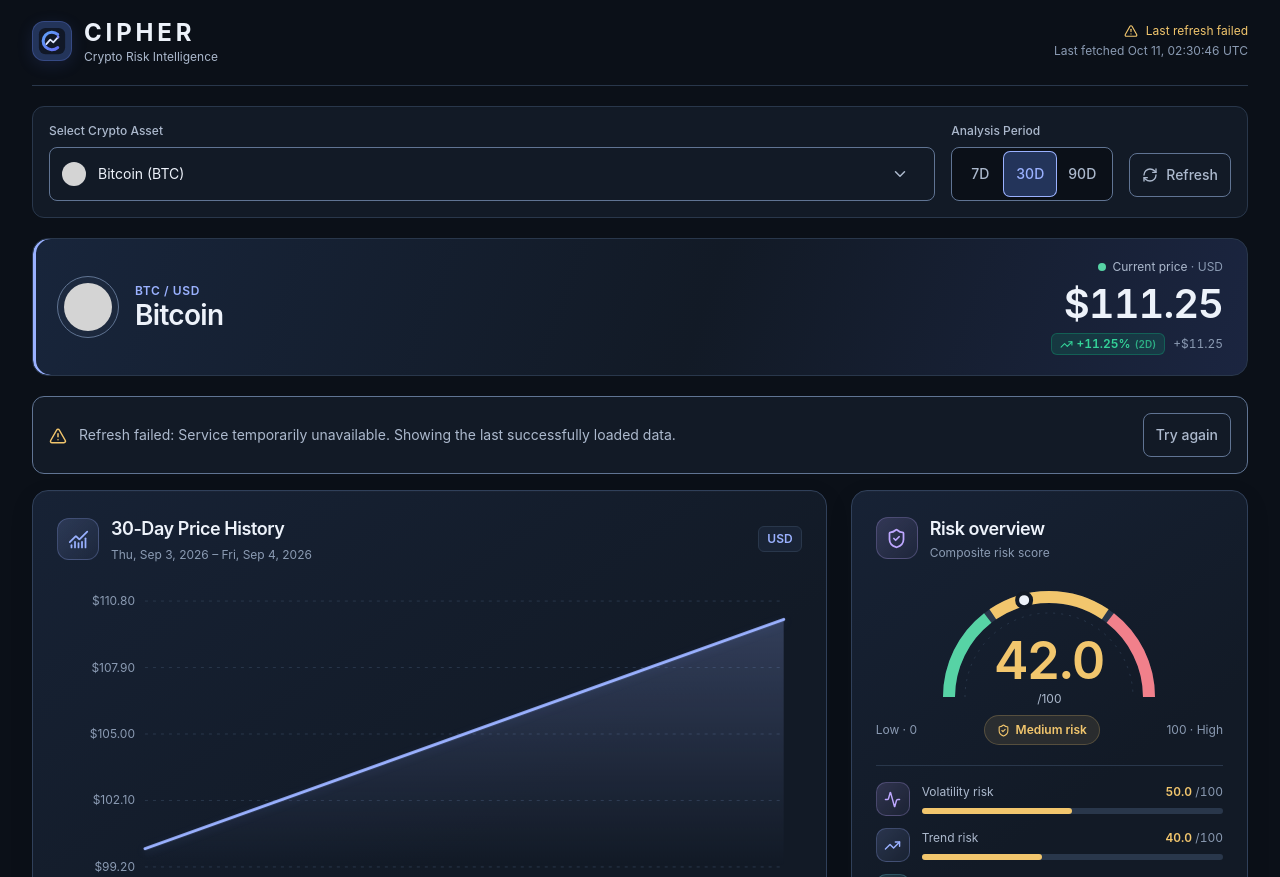
it: Dashboard loading and recovery › retains the last successful data after a failed refresh and retries the selected query
Expected: the text "Showing the last successfully loaded data" is shown, [390,426,676,443]
Step 1. Click the button "Try again" → (1187, 435), box [1143,413,1231,457]
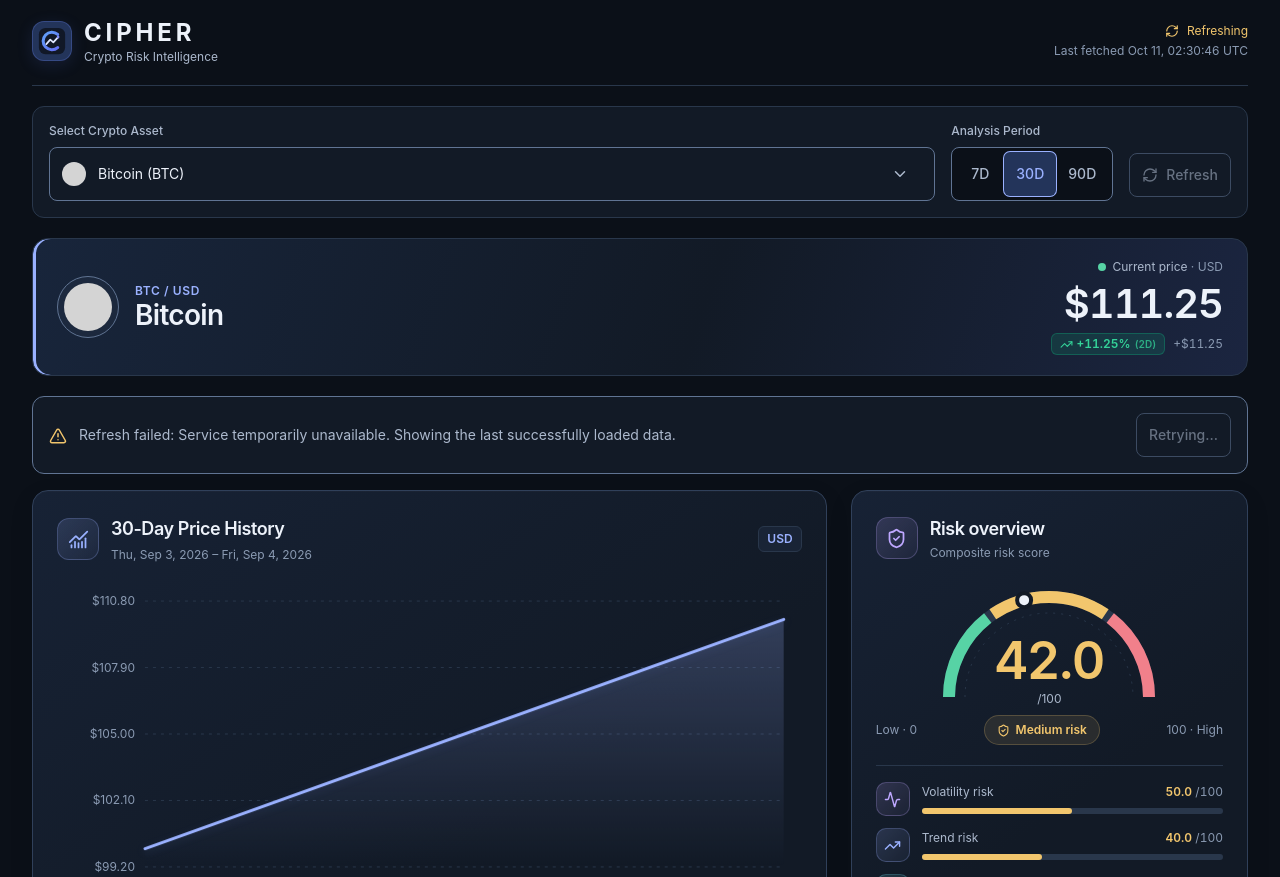
Expected: the button "Retrying…" is disabled
Step 2. Double-click the button "Retrying…" → (1184, 435), box [1136,413,1231,457]
(page scrolled)
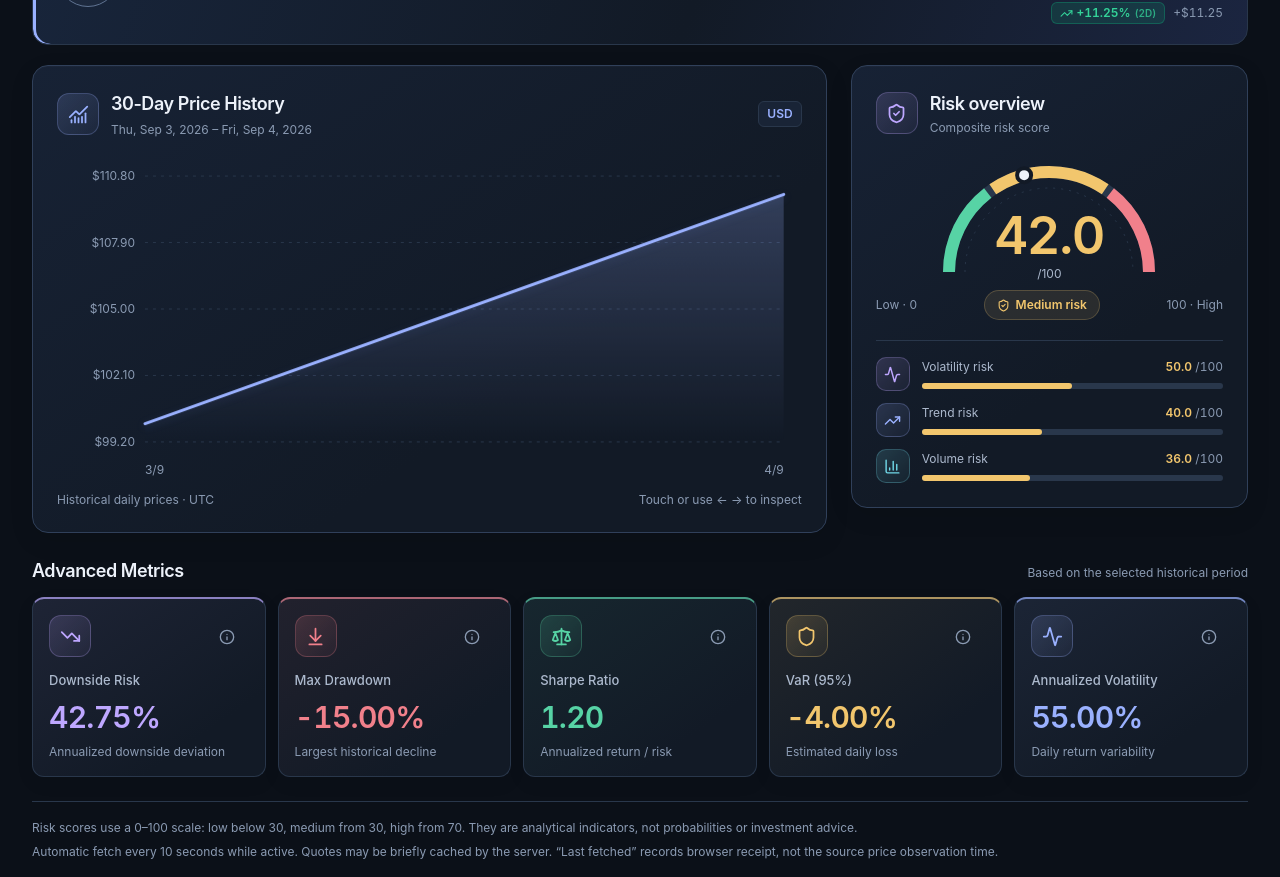
Expected: the text "42.75%" is shown, [49,698,160,734]
Expected: the text "Refresh failed" is gone
